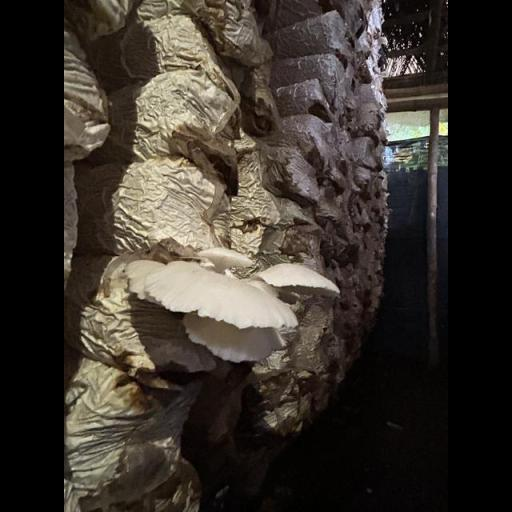White Oyster Mushroom: (122, 231, 342, 380)
